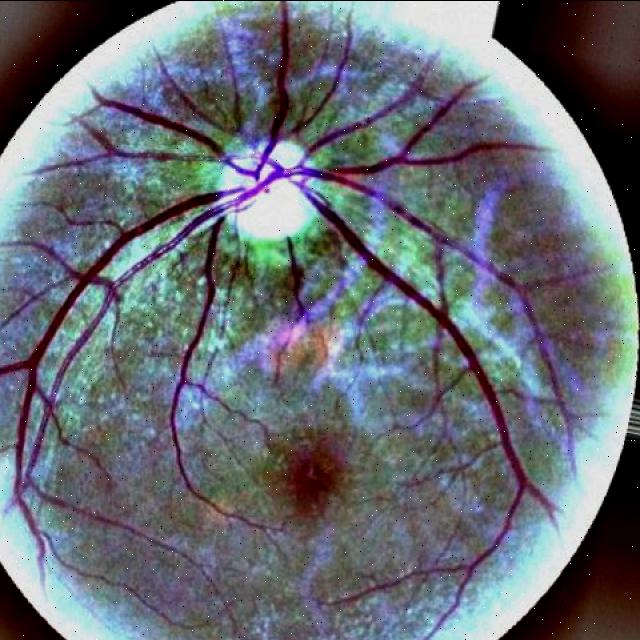Macula: (288, 441, 341, 515)
Nerves: (0, 0, 551, 577)
Optic Disk: (217, 139, 316, 239)
